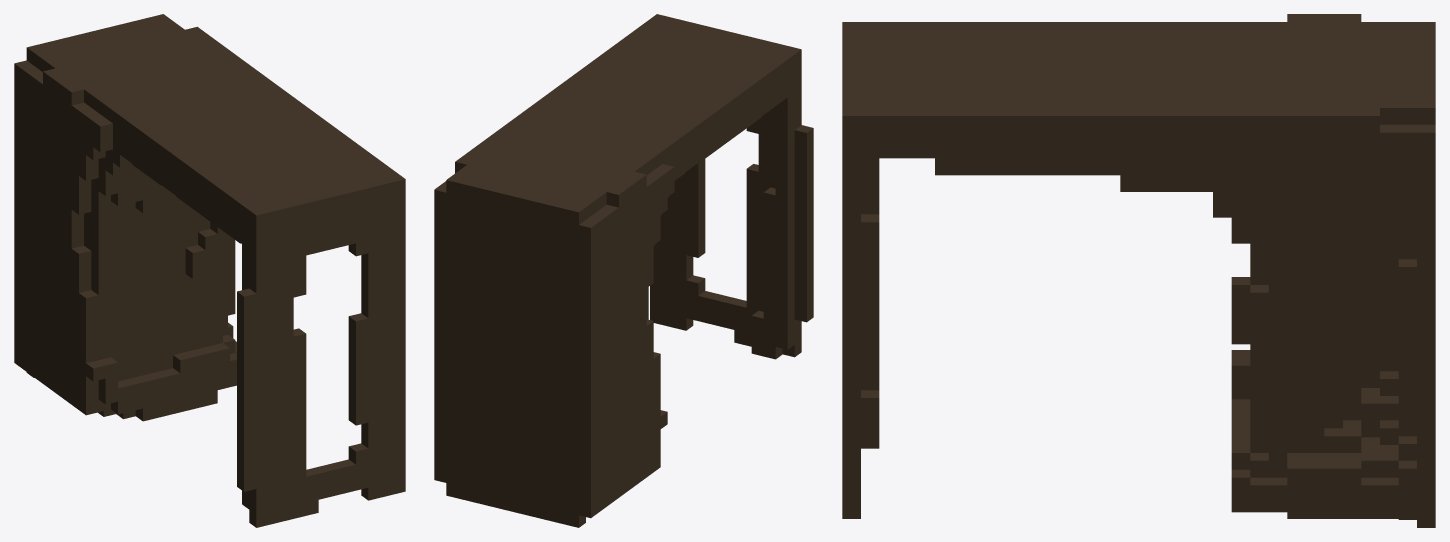
The model's file is Desk.glb.
3 views of the same model, side by side, from view 1: azimuth 30°, elevation 25°; view 2: azimuth 150°, elevation 25°; view 3: azimuth 270°, elevation 25° (orthographic). The views are drawn at different scales.
Parts seen in each view (by area): view 1: prediction; view 2: prediction; view 3: prediction.
Part boxes in pixels (x1,y1,x2,y2): prediction: (14, 14, 405, 527); prediction: (434, 14, 813, 527); prediction: (842, 14, 1435, 527).
Size of the model in its own units: 5.2 by 10 by 12.8.
